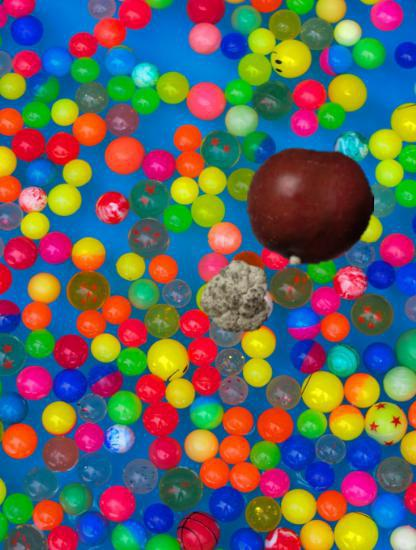Cauliflower: (201, 260, 276, 335)
Nectarine: (247, 144, 374, 271)
